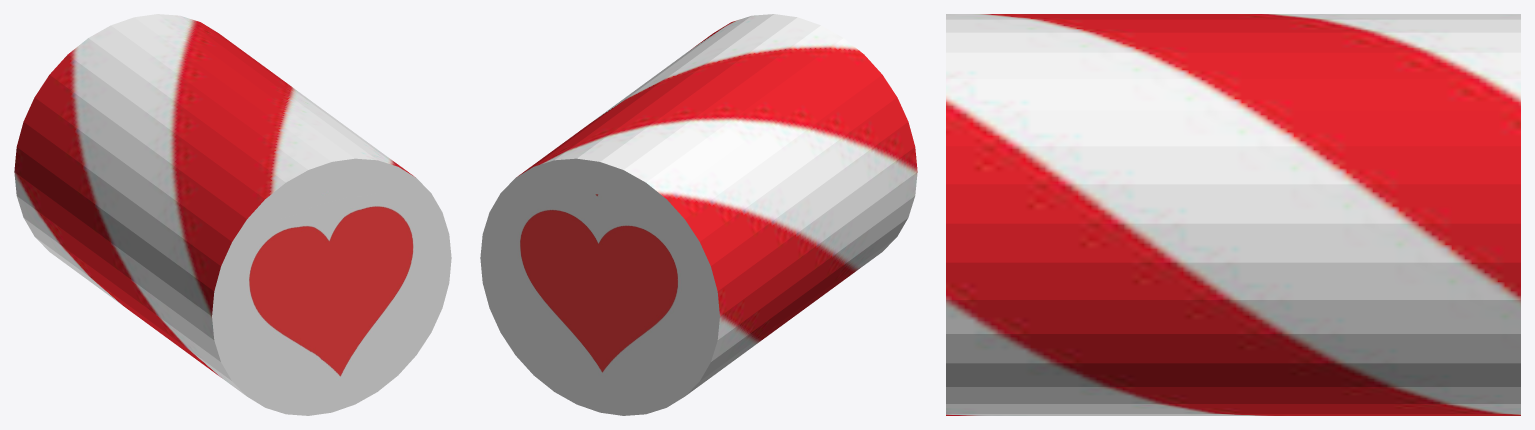
Rendered from CandyPiece.fbx.
3 views of the same model, side by side, from view 1: azimuth 30°, elevation 25°; view 2: azimuth 150°, elevation 25°; view 3: azimuth 270°, elevation 25° (orthographic). The views are drawn at different scales.
Visible parts, largest first — view 1: Piece.013; view 2: Piece.013; view 3: Piece.013.
Boxes of the visible parts, x1,y1,x2,y2 form: Piece.013: [14, 14, 451, 415]; Piece.013: [480, 14, 917, 415]; Piece.013: [946, 14, 1520, 415].
Bounding box in the file's own units: 1.4 × 1.4 × 2.
